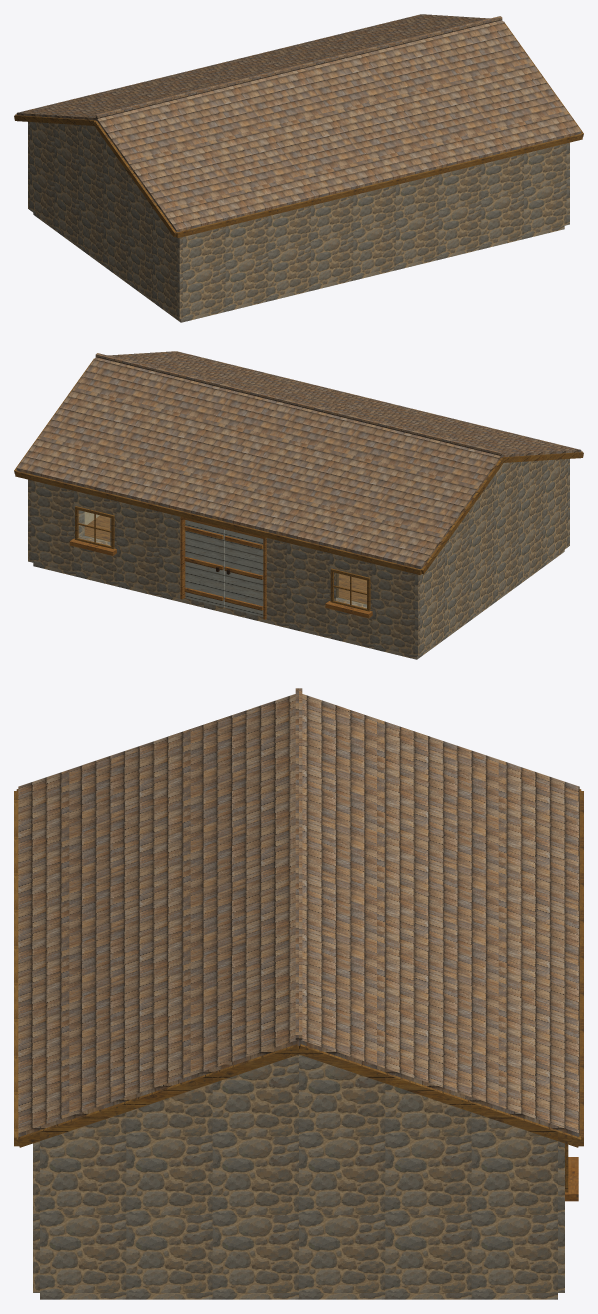
Rendered from frontier-stone-storehouse.gltf.
3 renders of one model, top to bottom at view 1: azimuth 30°, elevation 25°; view 2: azimuth 150°, elevation 25°; view 3: azimuth 270°, elevation 25°, orthographic. The views are drawn at different scales.
Visible parts, largest first — view 1: roof-L1-shingle, exterior-L0-stone, roof-trim-L1-trim, roof-trim-L1-shingle, gable-infill-L0-stone, floor-L0-stone, datum-band-L0-stone; view 2: roof-L1-shingle, exterior-L0-stone, door-L0-door (×2), roof-trim-L1-trim, roof-trim-L1-shingle, floor-L0-stone, gable-infill-L0-stone, facade-trim-L0-trim, glazing-L0-glass, door-L0-wood (×2), floor-L0-wood, portal-trim-L0-wood (+2 smaller); view 3: roof-L1-shingle, exterior-L0-stone, gable-infill-L0-stone, roof-trim-L1-trim, datum-band-L0-stone, floor-L0-stone, roof-trim-L1-shingle.
Boxes of the visible parts, <box> form: roof-L1-shingle: <box>16,14,581,232</box>; exterior-L0-stone: <box>28,122,569,319</box>; roof-trim-L1-trim: <box>14,21,583,237</box>; roof-trim-L1-shingle: <box>95,16,502,118</box>; gable-infill-L0-stone: <box>40,122,148,202</box>; floor-L0-stone: <box>33,213,564,322</box>; datum-band-L0-stone: <box>32,122,156,213</box>; roof-L1-shingle: <box>16,351,581,569</box>; exterior-L0-stone: <box>28,459,569,656</box>; door-L0-door (×2): <box>185,520,263,616</box>; roof-trim-L1-trim: <box>14,358,583,574</box>; roof-trim-L1-shingle: <box>95,353,502,455</box>; floor-L0-stone: <box>33,550,564,659</box>; gable-infill-L0-stone: <box>449,459,557,539</box>; facade-trim-L0-trim: <box>75,506,370,611</box>; glazing-L0-glass: <box>80,511,366,605</box>; door-L0-wood (×2): <box>184,526,263,610</box>; floor-L0-wood: <box>84,515,366,607</box>; portal-trim-L0-wood: <box>180,517,266,619</box>; roof-L1-shingle: <box>18,694,579,1137</box>; exterior-L0-stone: <box>33,1136,564,1292</box>; gable-infill-L0-stone: <box>82,1054,515,1127</box>; roof-trim-L1-trim: <box>14,789,583,1147</box>; datum-band-L0-stone: <box>54,1127,543,1136</box>; floor-L0-stone: <box>40,1293,557,1299</box>; roof-trim-L1-shingle: <box>295,688,302,1039</box>.
Size of the model in its own units: 9.6 by 3.49 by 6.6.
8 materials, 7 textured.
